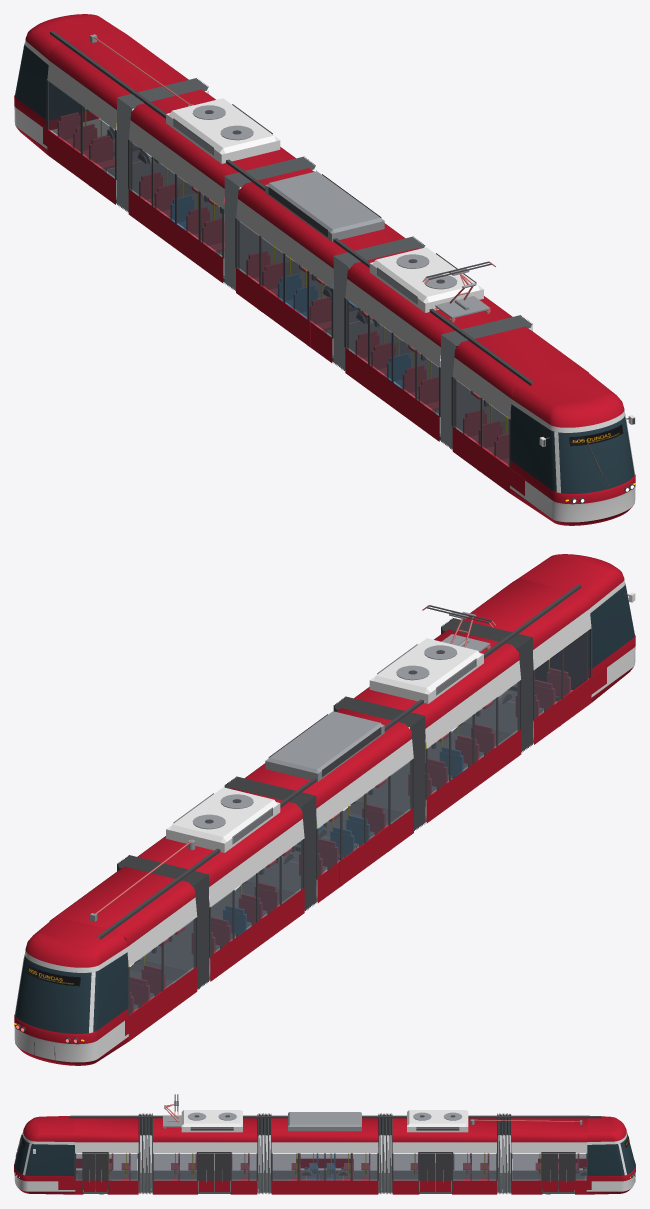
The model's file is flexity_outlook.glb.
3 views of the same model, one above another, from view 1: azimuth 30°, elevation 25°; view 2: azimuth 150°, elevation 25°; view 3: azimuth 270°, elevation 25° (orthographic). The views are drawn at different scales.
Visible parts, largest first — view 1: Mesh_mat_glass_tinted, Mesh_mat_ttc_white, Mesh_mat_ttc_red, Mesh_mat_bellows, Mesh_mat_interior_seats_red, Mesh_mat_roof_metal, Cab_front_17, Mesh_mat_ttc_black, Cab_front_0, RoofTrim_module_1, Mesh_mat_interior_floor, RoofTrim_module_5 (+9 smaller); view 2: Mesh_mat_glass_tinted, Mesh_mat_ttc_white, Mesh_mat_ttc_red, Mesh_mat_bellows, Mesh_mat_ttc_black, Mesh_mat_roof_metal, Mesh_mat_interior_seats_red, Mesh_mat_interior_floor, Cab_rear_17, RoofTrim_module_1, Cab_rear_0, RoofTrim_module_5 (+9 smaller); view 3: Mesh_mat_glass_tinted, Mesh_mat_ttc_white, Mesh_mat_ttc_red, Mesh_mat_ttc_black, Mesh_mat_bellows, Mesh_mat_roof_metal, Mesh_mat_interior_floor, RoofTrim_module_1, Cab_front_17, RoofTrim_module_2, Cab_front_0, RoofTrim_module_3 (+11 smaller).
Boxes of the visible parts, x1=… form: Mesh_mat_glass_tinted: x1=48, y1=82, x2=509, y2=464; Mesh_mat_ttc_white: x1=47, y1=60, x2=511, y2=418; Mesh_mat_ttc_red: x1=43, y1=126, x2=524, y2=495; Mesh_mat_bellows: x1=117, y1=78, x2=532, y2=449; Mesh_mat_interior_seats_red: x1=57, y1=112, x2=509, y2=466; Mesh_mat_roof_metal: x1=90, y1=34, x2=490, y2=318; Cab_front_17: x1=510, y1=404, x2=634, y2=493; Mesh_mat_ttc_black: x1=46, y1=31, x2=533, y2=468; Cab_front_0: x1=510, y1=368, x2=635, y2=525; RoofTrim_module_1: x1=49, y1=30, x2=188, y2=109; Mesh_mat_interior_floor: x1=108, y1=139, x2=510, y2=435; RoofTrim_module_5: x1=454, y1=326, x2=588, y2=398; Mesh_mat_glass_tinted: x1=129, y1=630, x2=589, y2=1012; Mesh_mat_ttc_white: x1=127, y1=609, x2=591, y2=966; Mesh_mat_ttc_red: x1=125, y1=666, x2=606, y2=1041; Mesh_mat_bellows: x1=117, y1=618, x2=532, y2=989; Mesh_mat_ttc_black: x1=97, y1=584, x2=592, y2=1016; Mesh_mat_roof_metal: x1=90, y1=611, x2=490, y2=921; Mesh_mat_interior_seats_red: x1=129, y1=668, x2=572, y2=1014; Mesh_mat_interior_floor: x1=130, y1=690, x2=557, y2=1009; Cab_rear_17: x1=15, y1=952, x2=128, y2=1033; RoofTrim_module_1: x1=49, y1=866, x2=195, y2=946; Cab_rear_0: x1=14, y1=916, x2=128, y2=1065; RoofTrim_module_5: x1=463, y1=578, x2=589, y2=649; Mesh_mat_glass_tinted: x1=76, y1=1154, x2=586, y2=1179; Mesh_mat_ttc_white: x1=75, y1=1110, x2=587, y2=1153; Mesh_mat_ttc_red: x1=58, y1=1158, x2=591, y2=1194; Mesh_mat_ttc_black: x1=69, y1=1094, x2=601, y2=1192; Mesh_mat_bellows: x1=95, y1=1113, x2=586, y2=1193; Mesh_mat_roof_metal: x1=89, y1=1101, x2=582, y2=1182; Mesh_mat_interior_floor: x1=76, y1=1170, x2=586, y2=1191; RoofTrim_module_1: x1=511, y1=1115, x2=587, y2=1142; Cab_front_17: x1=14, y1=1133, x2=74, y2=1175; RoofTrim_module_2: x1=392, y1=1115, x2=496, y2=1142; Cab_front_0: x1=14, y1=1115, x2=74, y2=1194; RoofTrim_module_3: x1=271, y1=1115, x2=378, y2=1142.
Bounding box in the file's own units: 2.89 × 4.61 × 30.36.
Materials: 18 (1 with a texture image).
